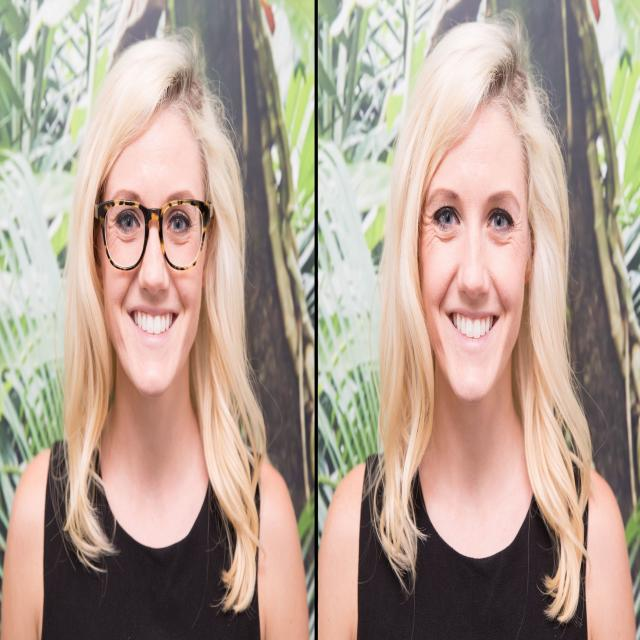Glasses: (94, 194, 215, 273)
